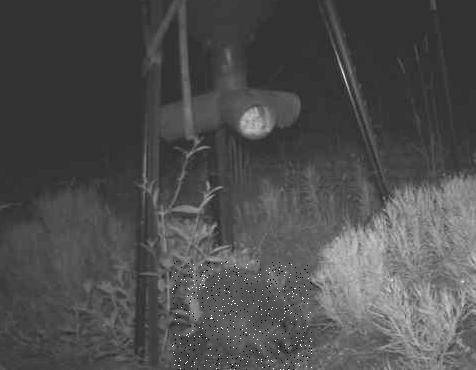Raccoon: (172, 261, 312, 370)
